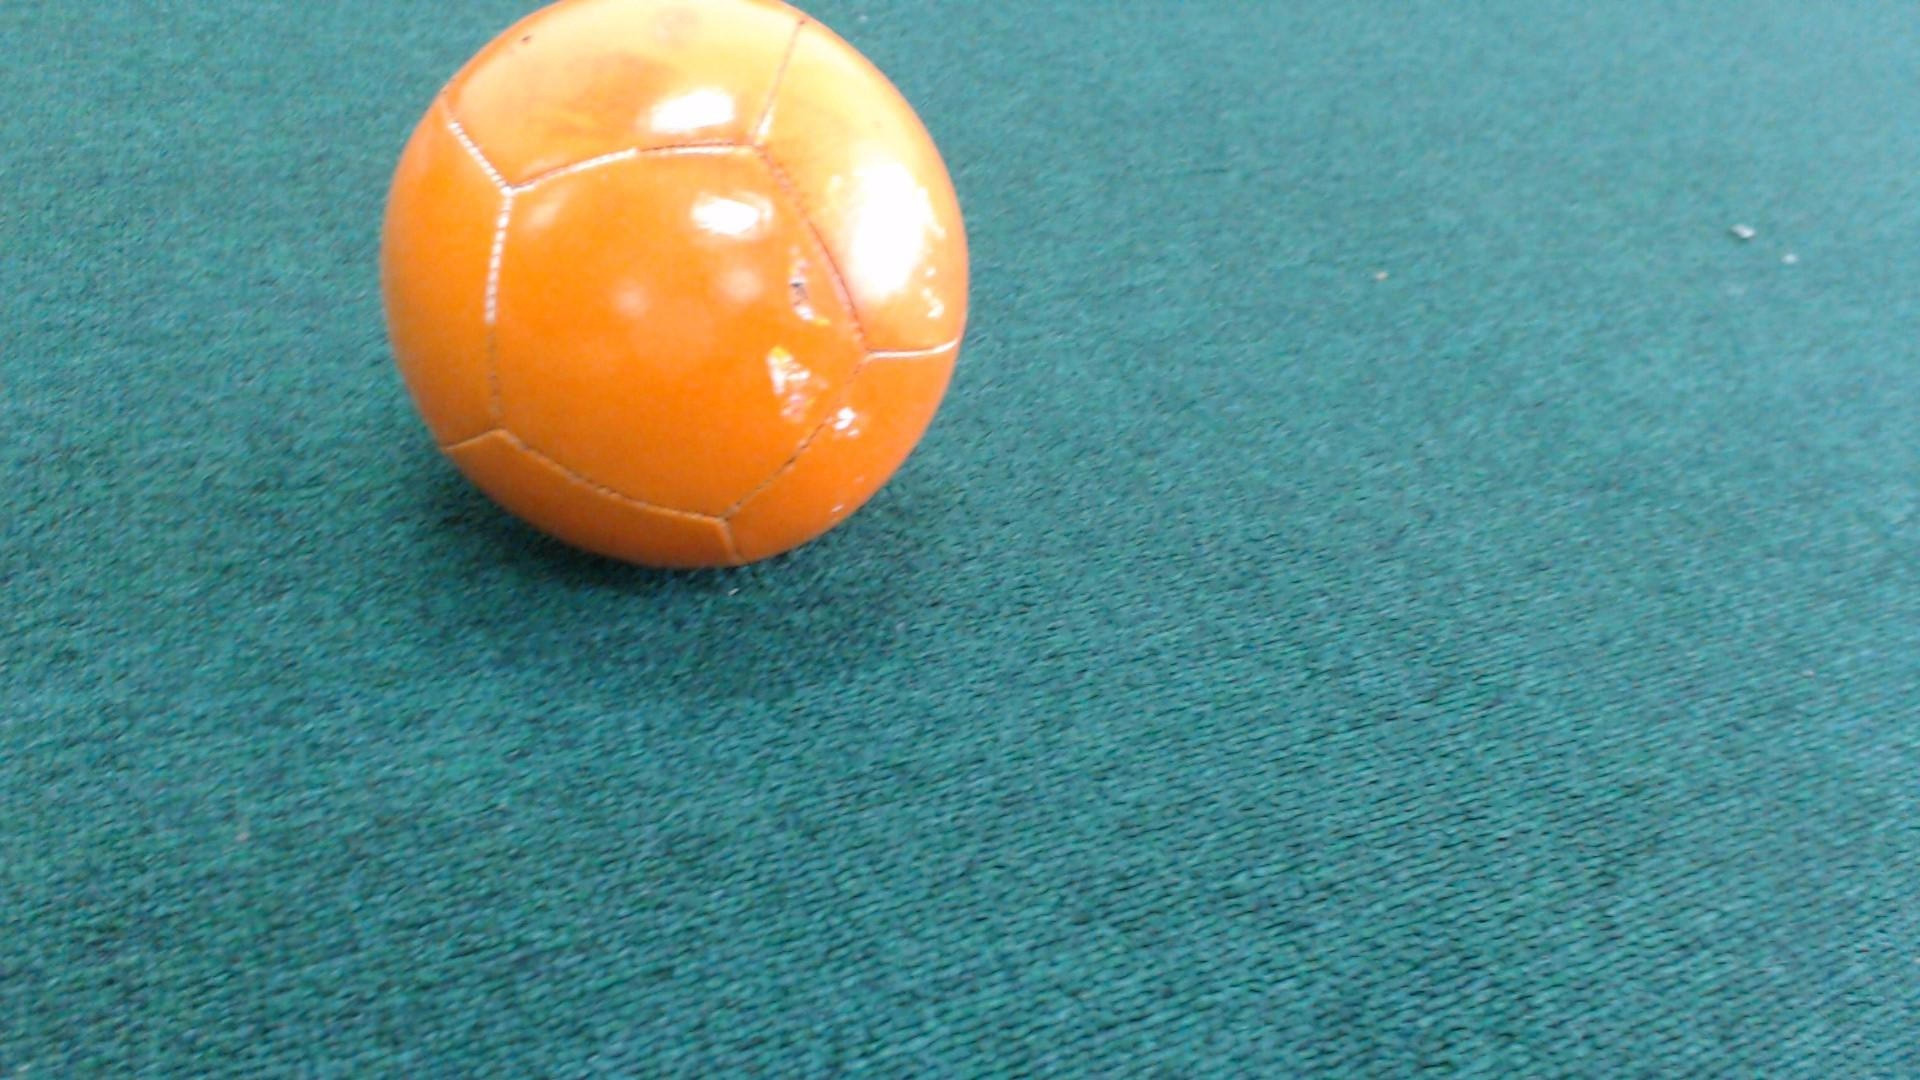bola: (327, 0, 1030, 613)
